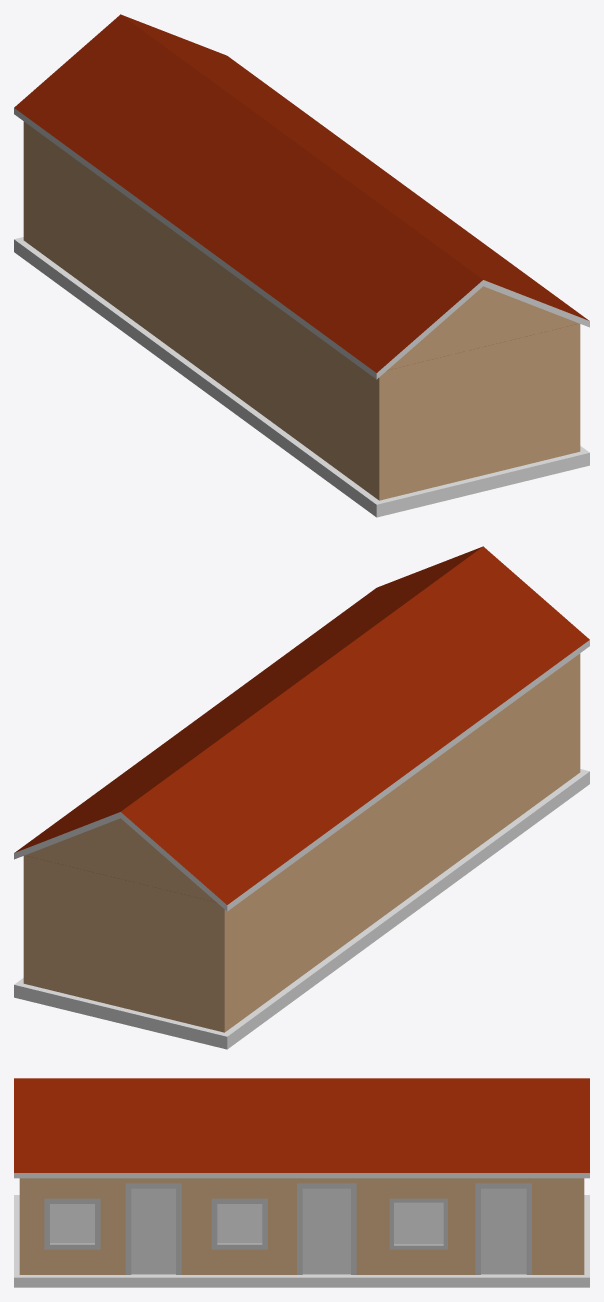
The model's file is Gable mabati.fbx.
3 renders of one model, top to bottom at view 1: azimuth 30°, elevation 25°; view 2: azimuth 150°, elevation 25°; view 3: azimuth 270°, elevation 25°, orthographic. The views are drawn at different scales.
Parts seen in each view (by area): view 1: building_003; view 2: building_003; view 3: building_003.
Boxes of the visible parts, left/top/right/bottom form: building_003: left=14, top=14, right=589, bottom=517; building_003: left=14, top=546, right=589, bottom=1049; building_003: left=14, top=1078, right=589, bottom=1287.
Size of the model in its own units: 348 by 330 by 1025.
